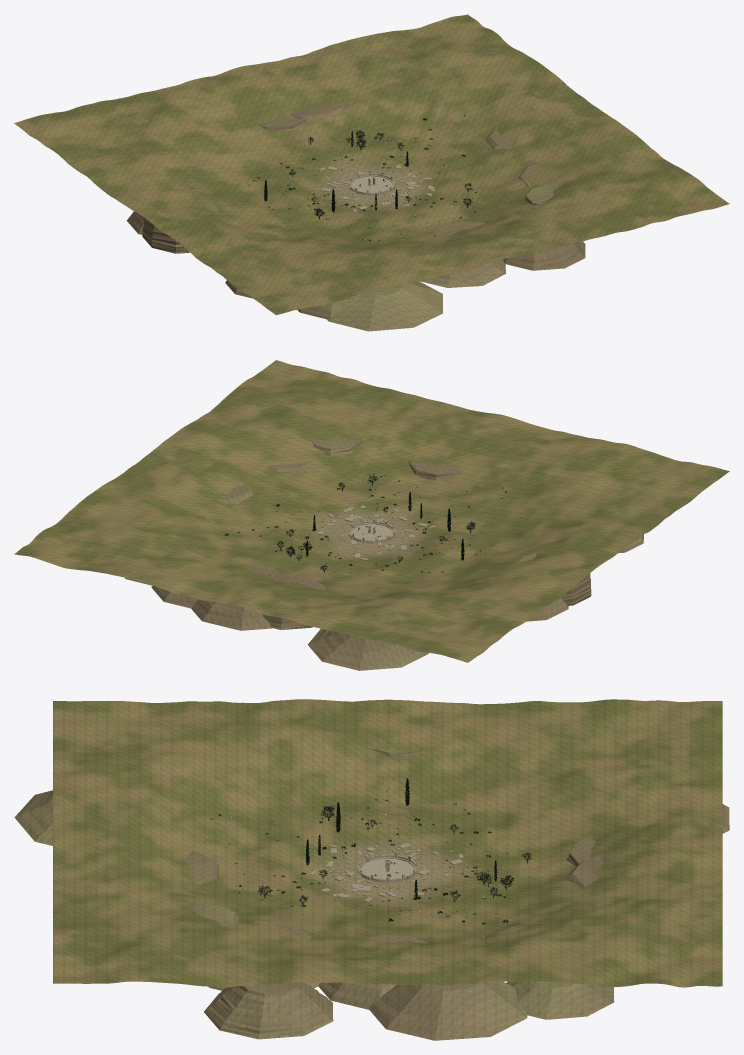
Rendered from karahan-tepe-yapisi-baked.glb.
The picture shows the model from 3 angles, top to bottom: view 1: azimuth 30°, elevation 25°; view 2: azimuth 150°, elevation 25°; view 3: azimuth 270°, elevation 25°; orthographic projection. The views are drawn at different scales.
Visible parts, largest first — view 1: karahan-tepe-yapisi-terrain, karahan-tepe-yapisi-ground, karahan-tepe-yapisi-near, karahan-tepe-yapisi-flora; view 2: karahan-tepe-yapisi-terrain, karahan-tepe-yapisi-ground, karahan-tepe-yapisi-near, karahan-tepe-yapisi-flora; view 3: karahan-tepe-yapisi-terrain, karahan-tepe-yapisi-ground, karahan-tepe-yapisi-near, karahan-tepe-yapisi-flora.
Boxes of the visible parts, x1,y1,x2,y2 form: karahan-tepe-yapisi-terrain: (14,14,729,314); karahan-tepe-yapisi-ground: (126,100,585,331); karahan-tepe-yapisi-near: (206,100,558,294); karahan-tepe-yapisi-flora: (243,106,509,243); karahan-tepe-yapisi-terrain: (14,360,729,662); karahan-tepe-yapisi-ground: (125,440,643,670); karahan-tepe-yapisi-near: (217,437,536,590); karahan-tepe-yapisi-flora: (198,454,521,573); karahan-tepe-yapisi-terrain: (53,699,722,987); karahan-tepe-yapisi-ground: (14,748,729,1040); karahan-tepe-yapisi-near: (185,748,603,994); karahan-tepe-yapisi-flora: (204,778,531,937).
Bounding box in the file's own units: 328 × 26.84 × 331.
Materials: 17 (12 with a texture image).
